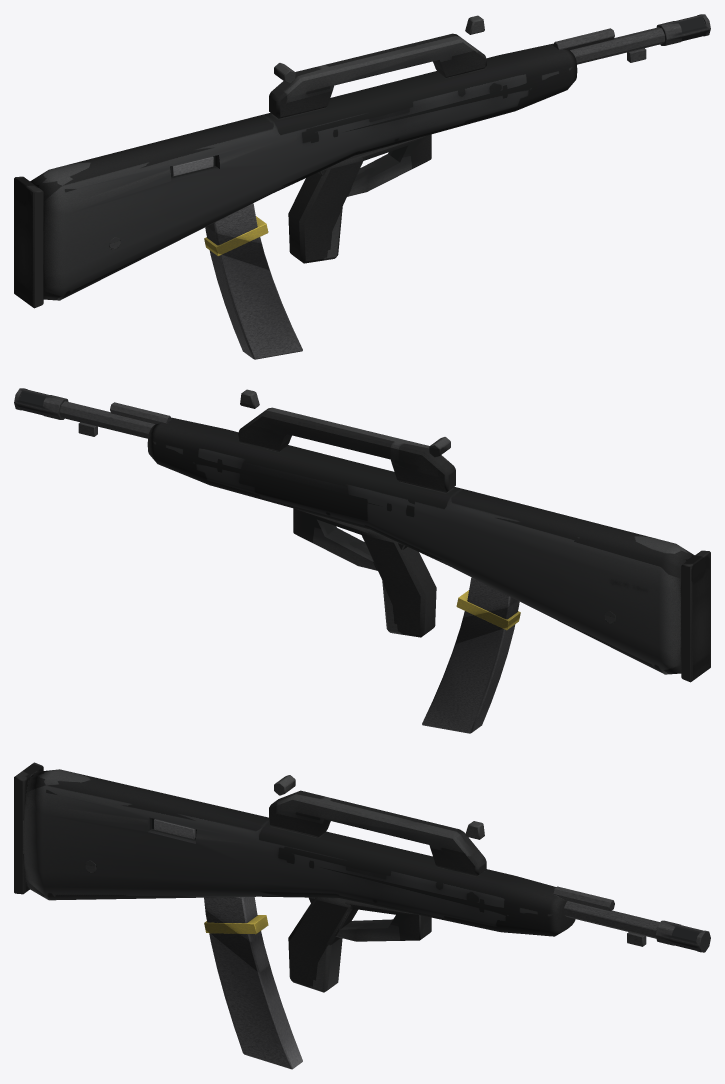
The model's file is qbz95.gltf.
The picture shows the model from 3 angles, top to bottom: view 1: azimuth 30°, elevation 25°; view 2: azimuth 150°, elevation 25°; view 3: azimuth 330°, elevation 25°; orthographic projection.
Visible parts, largest first — view 1: qbz95; view 2: qbz95; view 3: qbz95.
Boxes of the visible parts, box(x1,y1,x2,y2) form: qbz95: box(14, 14, 710, 359); qbz95: box(14, 388, 710, 733); qbz95: box(14, 762, 710, 1069).
Bounding box in the file's own units: 0.843 × 0.3379 × 0.054.
1 material, 1 textured.
